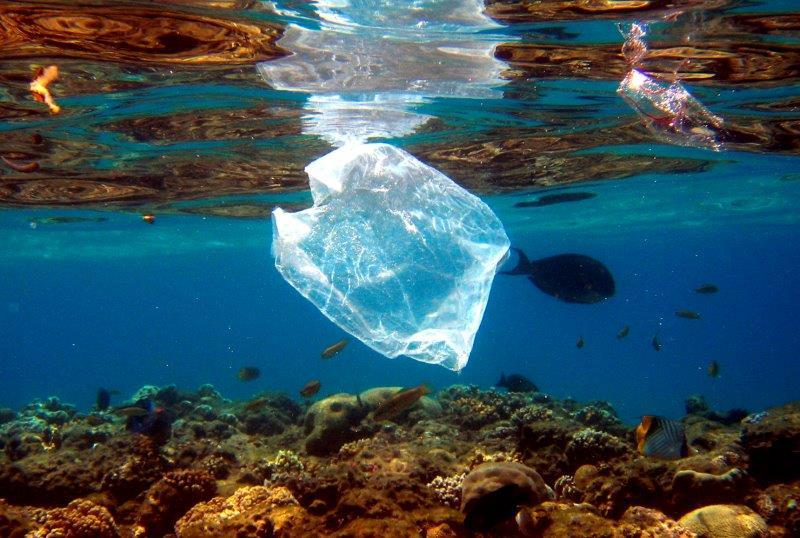plastic: (263, 143, 511, 377), (616, 67, 727, 154)
